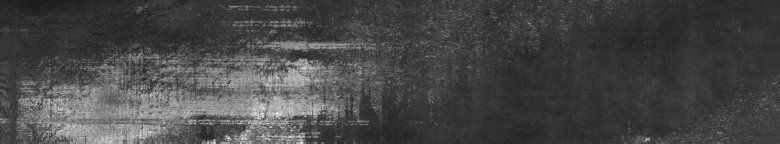kb: (4, 4, 568, 136)
